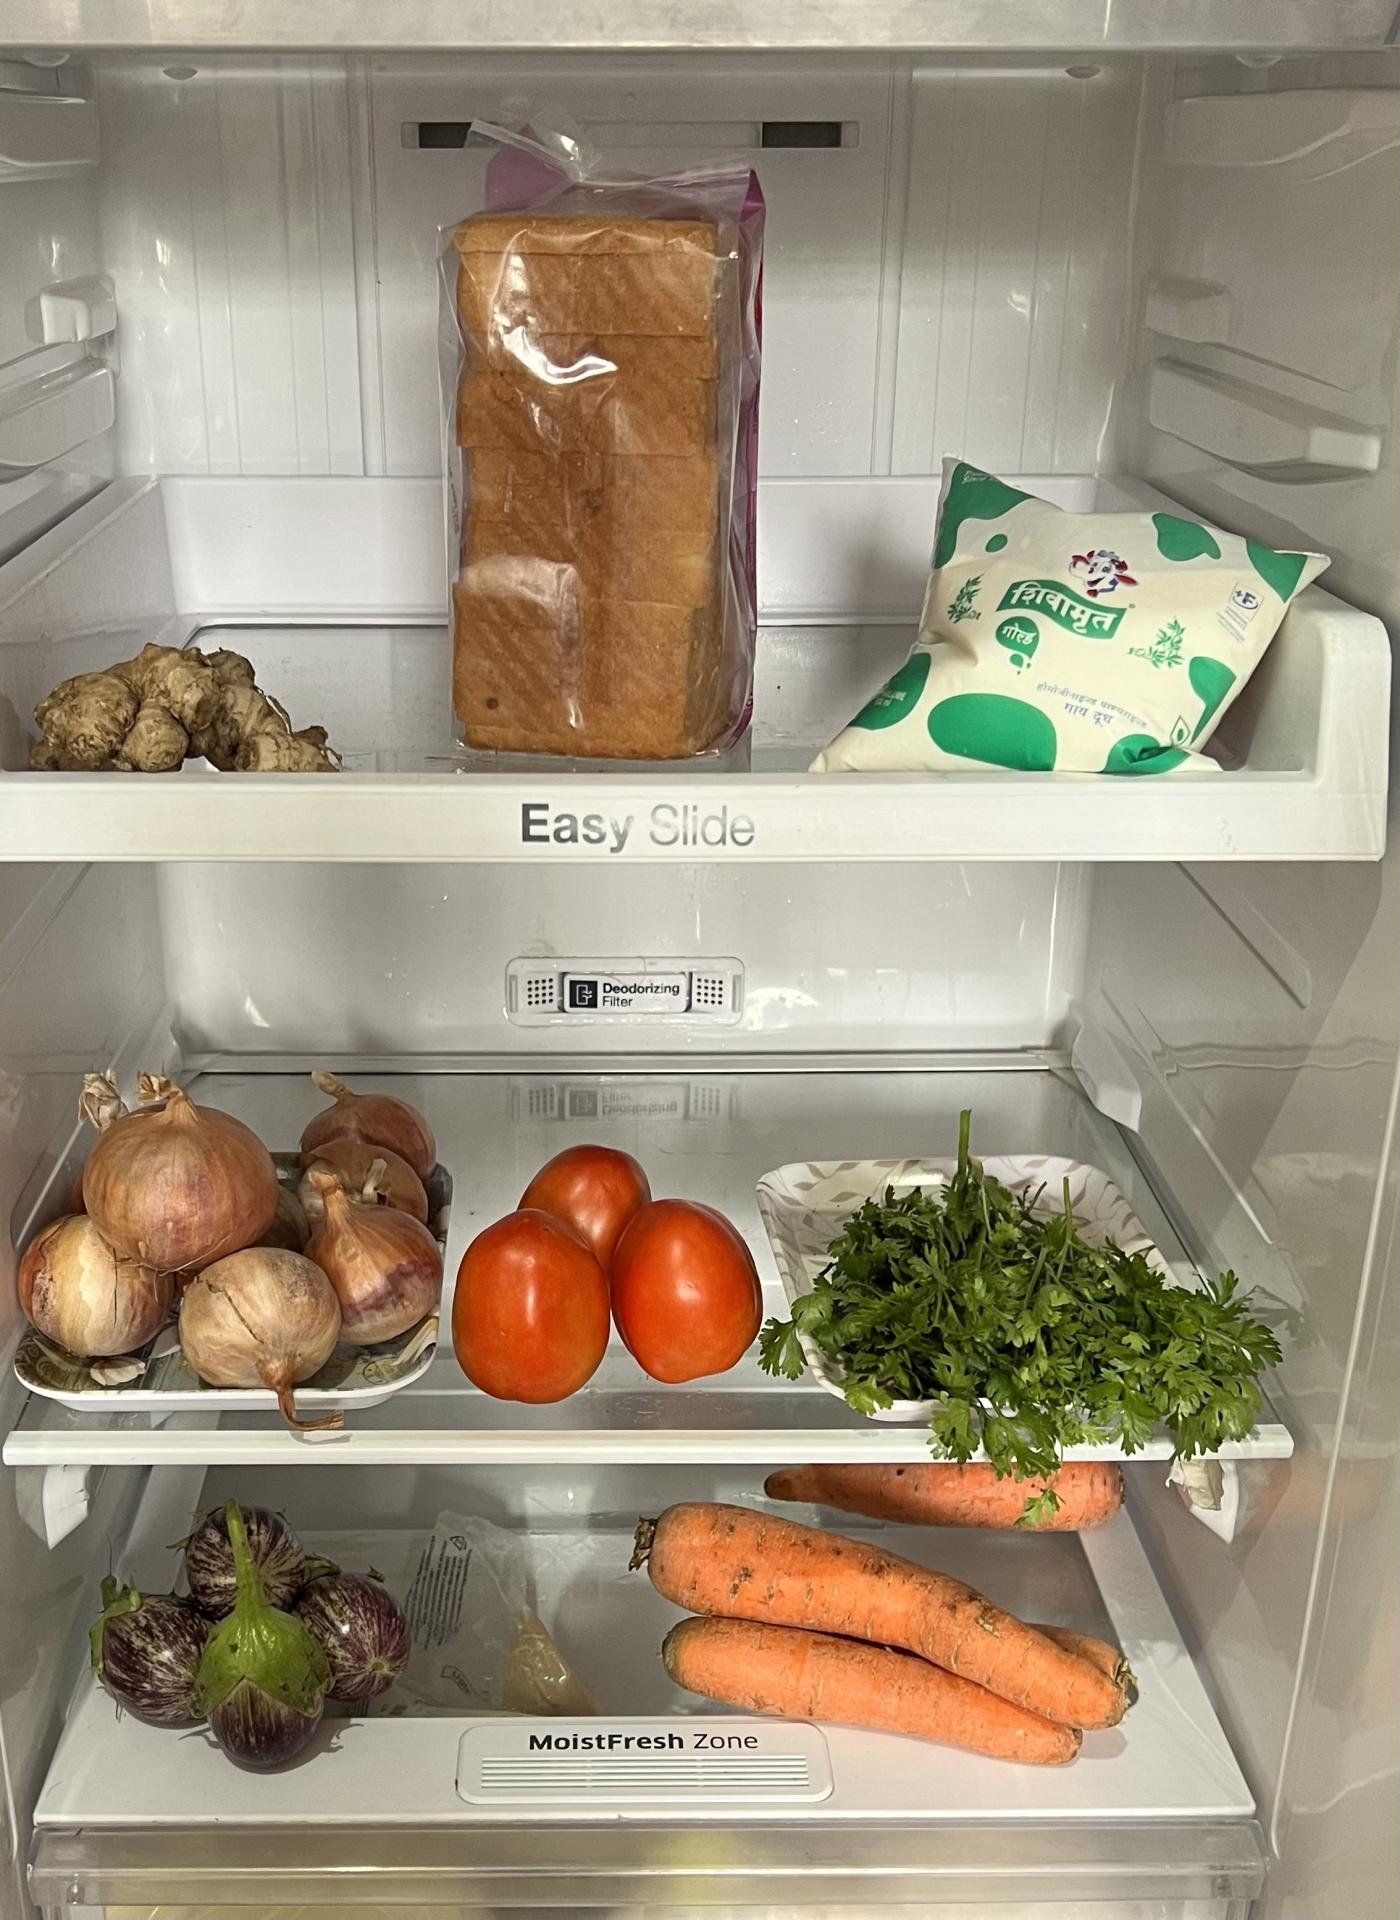bread: (426, 149, 769, 759)
carrots: (644, 1495, 1132, 1768)
coriander: (796, 1170, 1275, 1453)
ginger: (28, 638, 343, 777)
milk: (863, 462, 1278, 777)
onion: (16, 1072, 437, 1383)
tomato: (458, 1151, 754, 1397)
